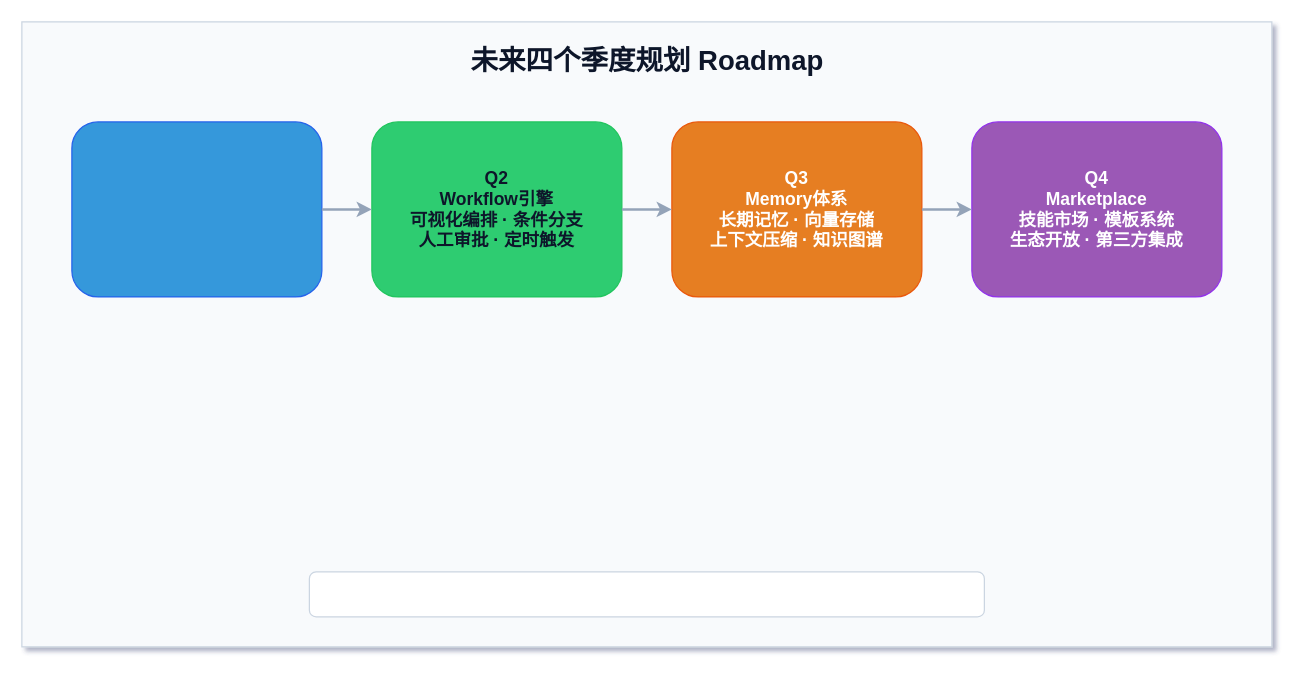
Some shapes in this 1301 by 676 pixel diagram are drawn without their labels. Each missing label, with the box of its shape:
Q1 Agent基础能力 对话管理 · 插件系统 知识库 · 权限控制: (71, 121, 322, 297)
图例： 🔵Q1 Agent 🟢Q2 Workflow 🟠Q3 Memory 🟣Q4 Marketplace: (308, 571, 984, 617)
